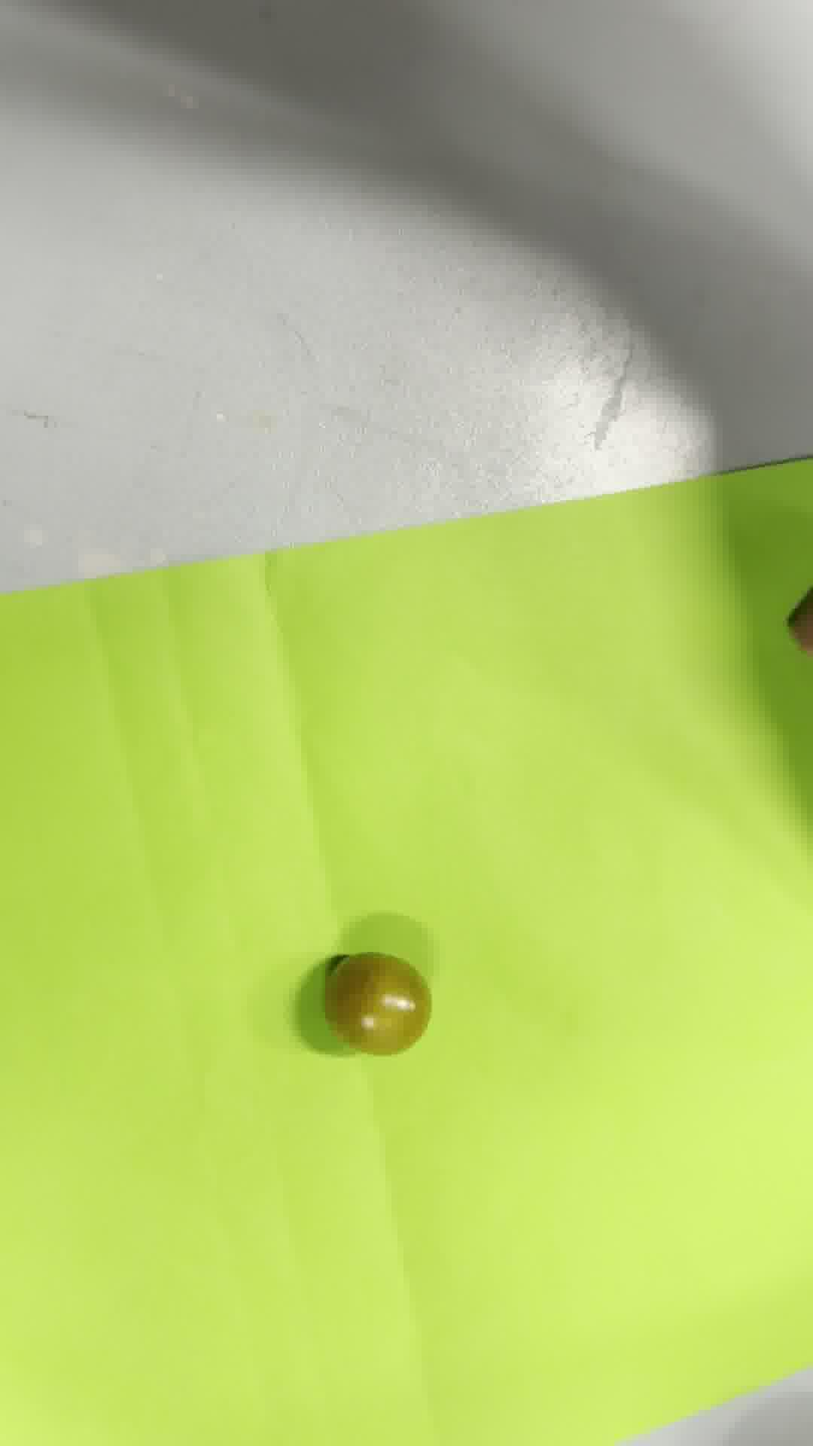yellow_cherry_tomato: (324, 952, 431, 1055)
